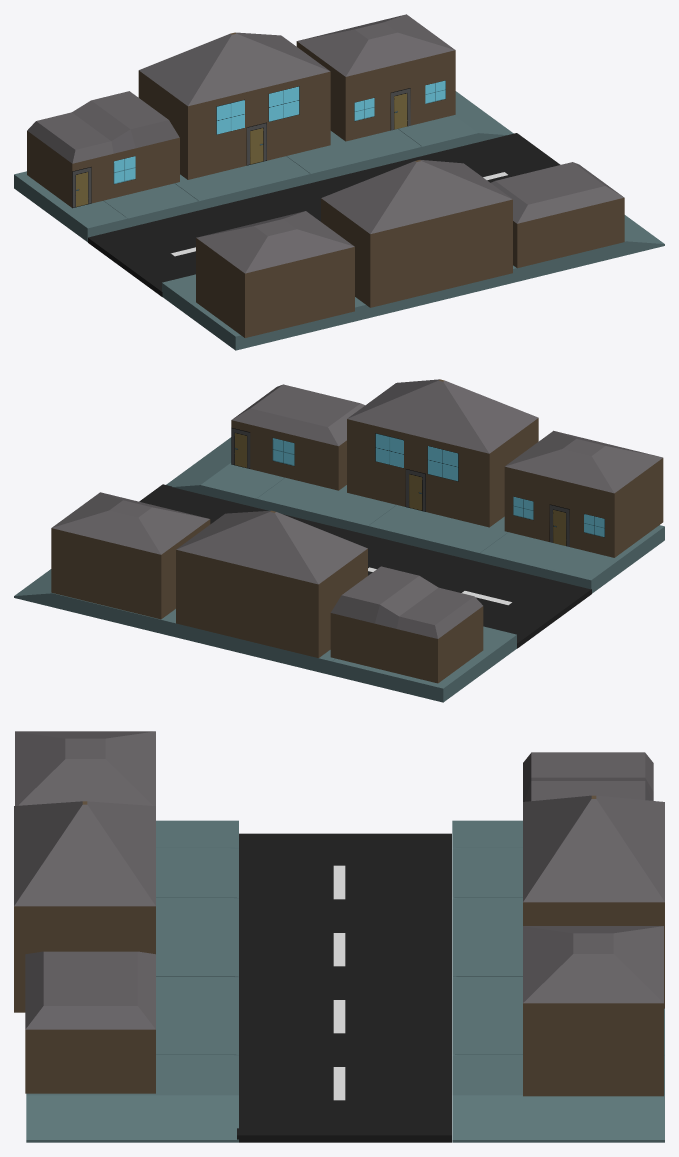
Rendered from street environment.fbx.
The picture shows the model from 3 angles, top to bottom: view 1: azimuth 30°, elevation 25°; view 2: azimuth 150°, elevation 25°; view 3: azimuth 270°, elevation 25°; orthographic projection. The views are drawn at different scales.
Visible parts, largest first — view 1: House (×2), House.003, House.001, Sidewalk, House.004, Road, House.002, Sidewalk.001; view 2: House (×2), House.001, House.003, Sidewalk.001, House.004, House.002, Road, Sidewalk; view 3: Road, House (×2), Sidewalk.001, Sidewalk, House.003, House.001, House.004, House.002.
Part boxes in pixels (x1=…): House (×2): x1=296, y1=14, x2=624, y2=268; House.003: x1=321, y1=160, x2=512, y2=307; House.001: x1=138, y1=32, x2=330, y2=179; Sidewalk: x1=14, y1=91, x2=513, y2=242; House.004: x1=196, y1=211, x2=354, y2=337; Road: x1=88, y1=133, x2=560, y2=296; House.002: x1=27, y1=91, x2=179, y2=208; Sidewalk.001: x1=162, y1=215, x2=664, y2=350; House (×2): x1=51, y1=384, x2=364, y2=619; House.001: x1=176, y1=510, x2=367, y2=657; House.003: x1=347, y1=379, x2=538, y2=527; Sidewalk.001: x1=166, y1=437, x2=664, y2=593; House.004: x1=504, y1=430, x2=663, y2=557; House.002: x1=330, y1=566, x2=483, y2=683; Road: x1=139, y1=484, x2=591, y2=648; Sidewalk: x1=14, y1=569, x2=516, y2=702; Road: x1=237, y1=833, x2=451, y2=1142; House (×2): x1=25, y1=926, x2=663, y2=1096; Sidewalk.001: x1=26, y1=820, x2=238, y2=1142; Sidewalk: x1=452, y1=820, x2=664, y2=1142; House.003: x1=14, y1=801, x2=155, y2=1012; House.001: x1=523, y1=795, x2=664, y2=1008; House.004: x1=15, y1=731, x2=155, y2=805; House.002: x1=523, y1=752, x2=653, y2=801.
Bounding box in the file's own units: 6035 × 1684 × 5500.
